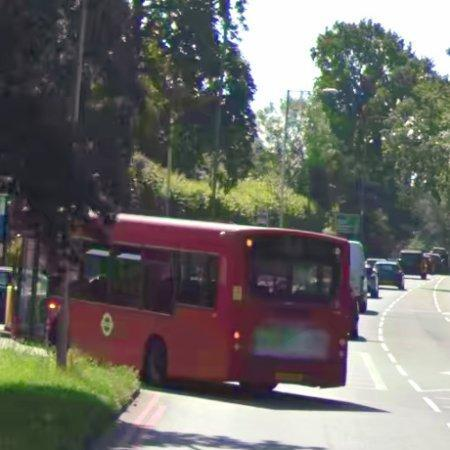buses: (71, 214, 356, 390)
